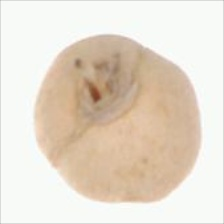L3: (76, 55, 140, 120)
L4: (34, 34, 202, 203)
